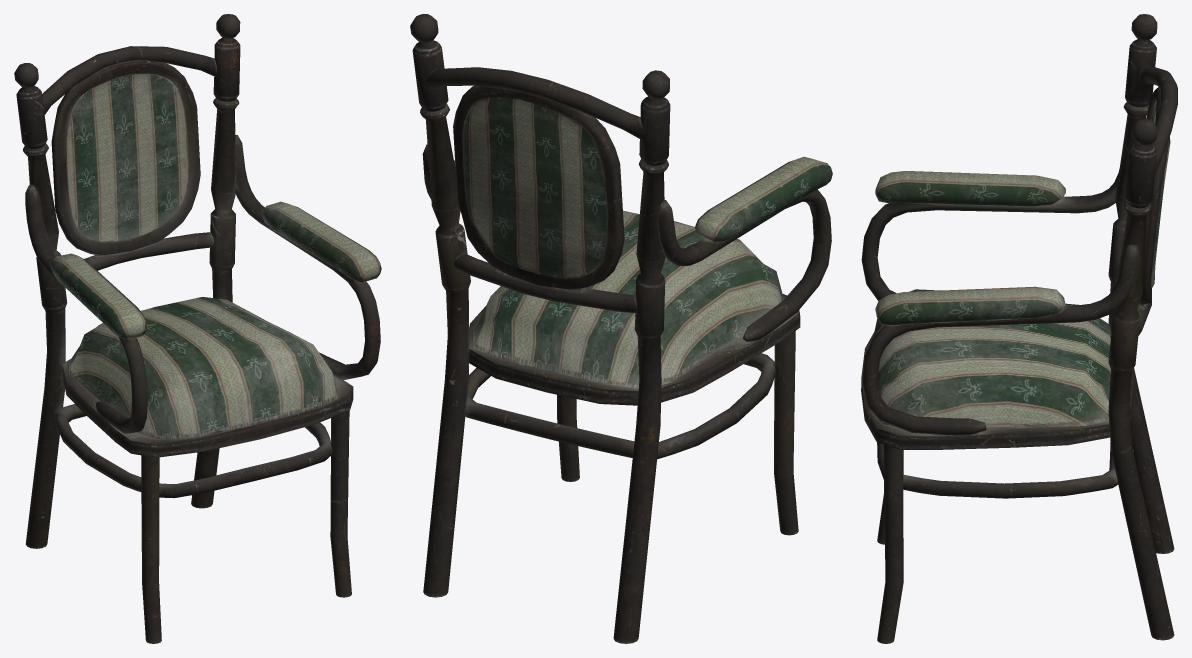
Rendered from chair8-transformed.glb.
The picture shows the model from 3 angles, left to right: view 1: azimuth 30°, elevation 25°; view 2: azimuth 150°, elevation 25°; view 3: azimuth 270°, elevation 25°; orthographic projection. The views are drawn at different scales.
Visible parts, largest first — view 1: Cube.007_Material.002_0; view 2: Cube.007_Material.002_0; view 3: Cube.007_Material.002_0.
Part boxes in pixels (x1=…): Cube.007_Material.002_0: x1=14, y1=14, x2=381, y2=643; Cube.007_Material.002_0: x1=410, y1=14, x2=832, y2=643; Cube.007_Material.002_0: x1=861, y1=14, x2=1177, y2=643.
Bounding box in the file's own units: 0.5406 × 0.9585 × 0.5243.
Materials: 1 (1 with a texture image).
